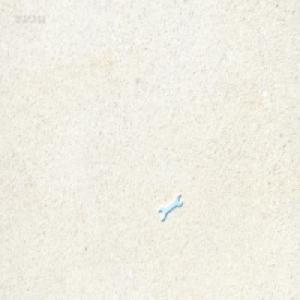Wrench: (159, 192, 183, 220)
